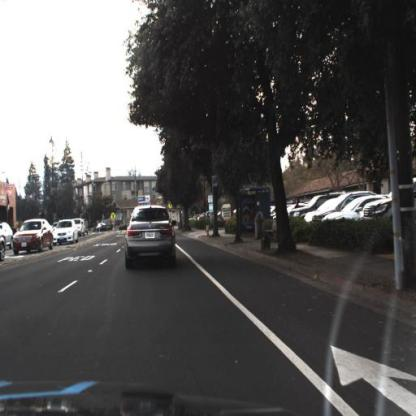car: (119, 202, 179, 270), (308, 189, 365, 227), (14, 218, 56, 257), (325, 202, 374, 232), (290, 191, 331, 225), (55, 218, 80, 245), (1, 224, 15, 262), (94, 217, 109, 241), (75, 214, 86, 246), (95, 223, 107, 236)
